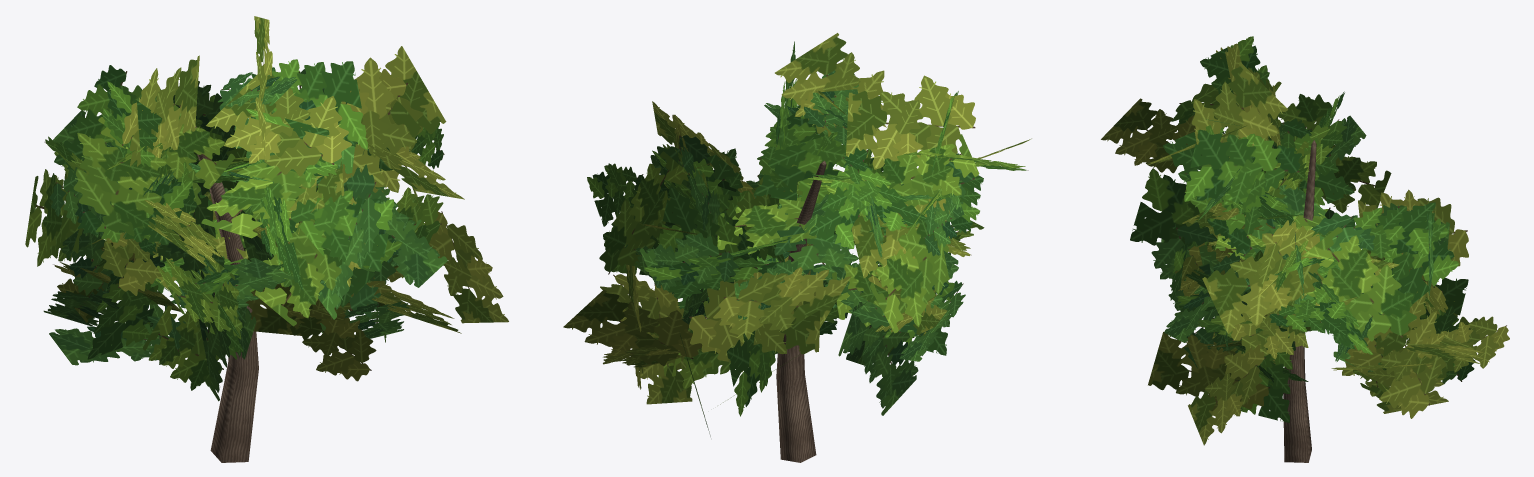
The model's file is hero_oak_c_lod2.obj.
3 views of the same model, side by side, from view 1: azimuth 30°, elevation 25°; view 2: azimuth 150°, elevation 25°; view 3: azimuth 270°, elevation 25° (orthographic). The views are drawn at different scales.
Visible parts, largest first — view 1: hero_oak_c_lod2; view 2: hero_oak_c_lod2; view 3: hero_oak_c_lod2.
Boxes of the visible parts, bbox=[...] form: hero_oak_c_lod2: bbox=[25, 16, 508, 462]; hero_oak_c_lod2: bbox=[563, 33, 1031, 462]; hero_oak_c_lod2: bbox=[1101, 36, 1509, 462].
Bounding box in the file's own units: 16.91 × 16.02 × 15.38.
2 materials, 2 textured.
